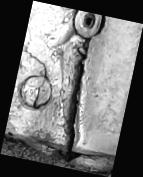crack: (1, 0, 143, 177)
